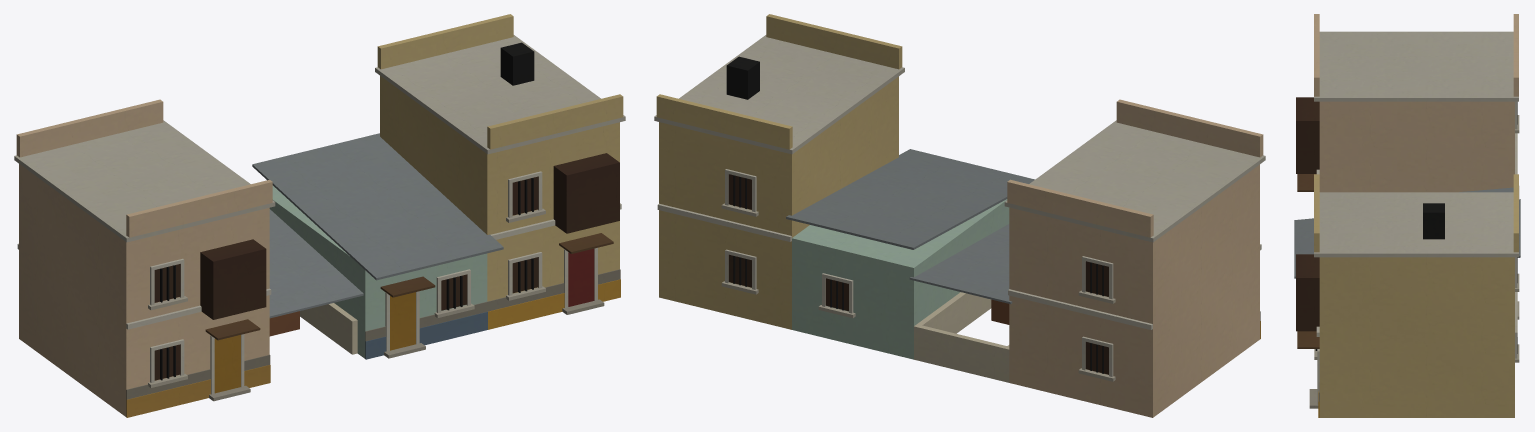
File: abadi_row_c_lod.glb
The picture shows the model from 3 angles, left to right: view 1: azimuth 30°, elevation 25°; view 2: azimuth 150°, elevation 25°; view 3: azimuth 270°, elevation 25°; orthographic projection. The views are drawn at different scales.
Visible parts, largest first — view 1: hb_main; view 2: hb_main; view 3: hb_main.
Boxes of the visible parts, x1,y1,x2,y2 form: hb_main: (14, 14, 625, 417); hb_main: (654, 14, 1265, 417); hb_main: (1294, 14, 1520, 417).
Size of the model in its own units: 18.8 by 7.6 by 8.1.
1 material, 1 textured.
